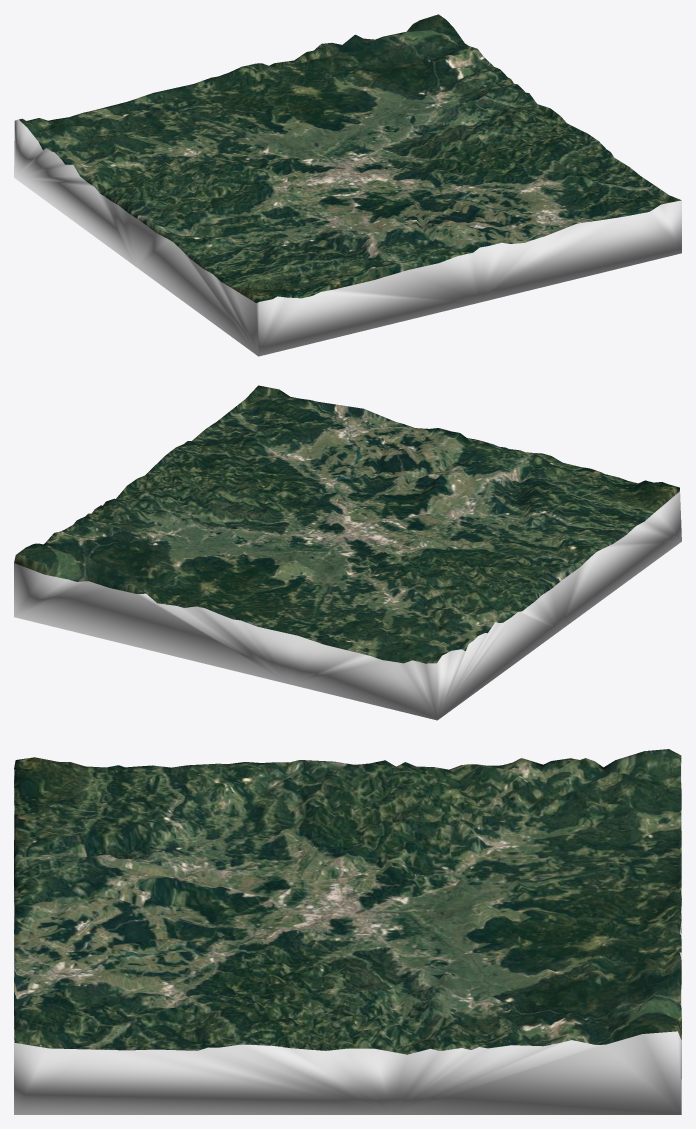
Rendered from MapDecimate.gltf.
The picture shows the model from 3 angles, top to bottom: view 1: azimuth 30°, elevation 25°; view 2: azimuth 150°, elevation 25°; view 3: azimuth 270°, elevation 25°; orthographic projection. The views are drawn at different scales.
Parts seen in each view (by area): view 1: Plane; view 2: Plane; view 3: Plane.
Boxes of the visible parts, x1,y1,x2,y2 form: Plane: (14,14,681,356); Plane: (14,385,681,720); Plane: (14,749,681,1114).
Size of the model in its own units: 5.22 by 0.7408 by 5.22.
Materials: 2 (1 with a texture image).
